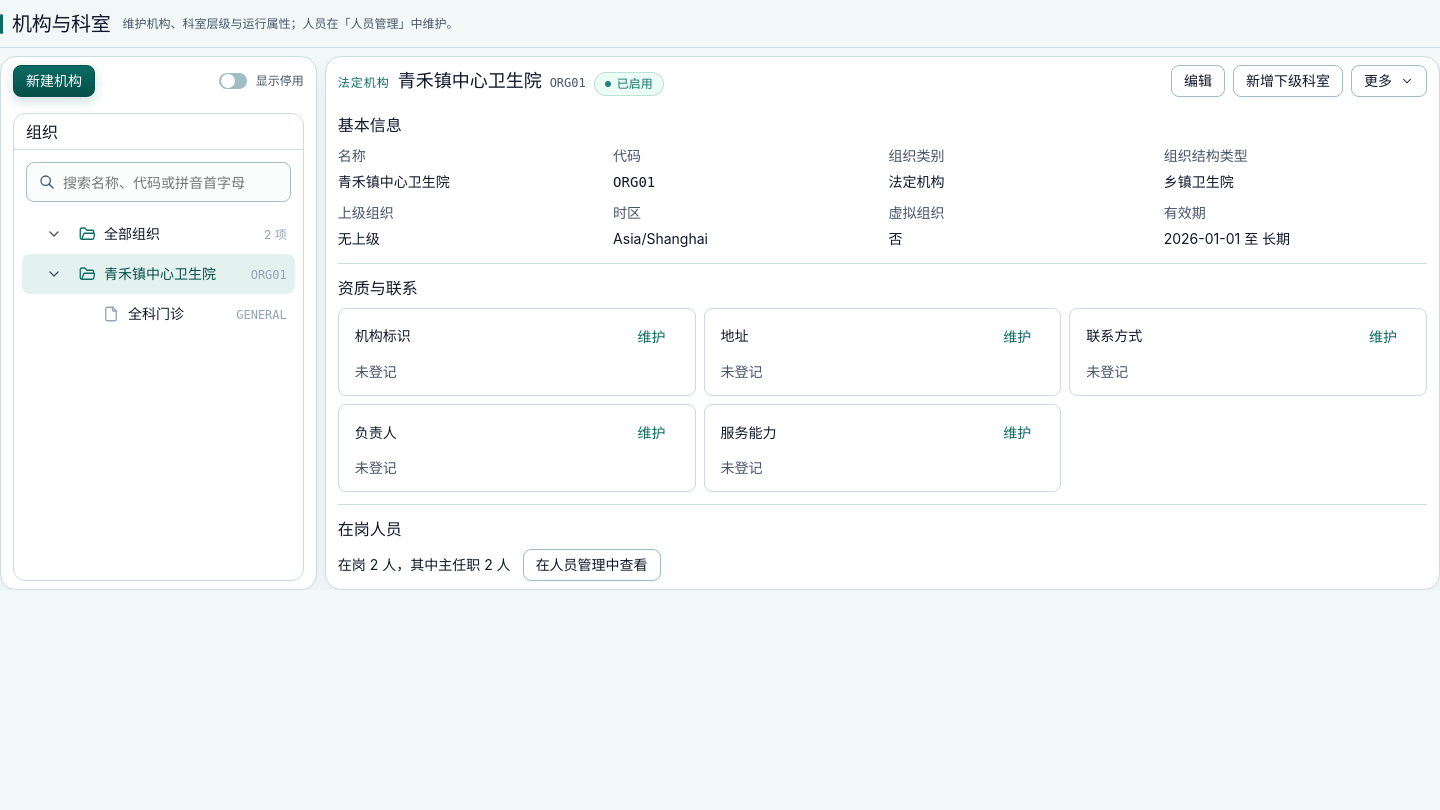
Test: OrganizationsPage › maintains one profile section with defaults and unchanged basic data, never resubmitting relations
Click the button "维护" in the row of "联系方式": (1383, 337) [1356, 321, 1410, 353]
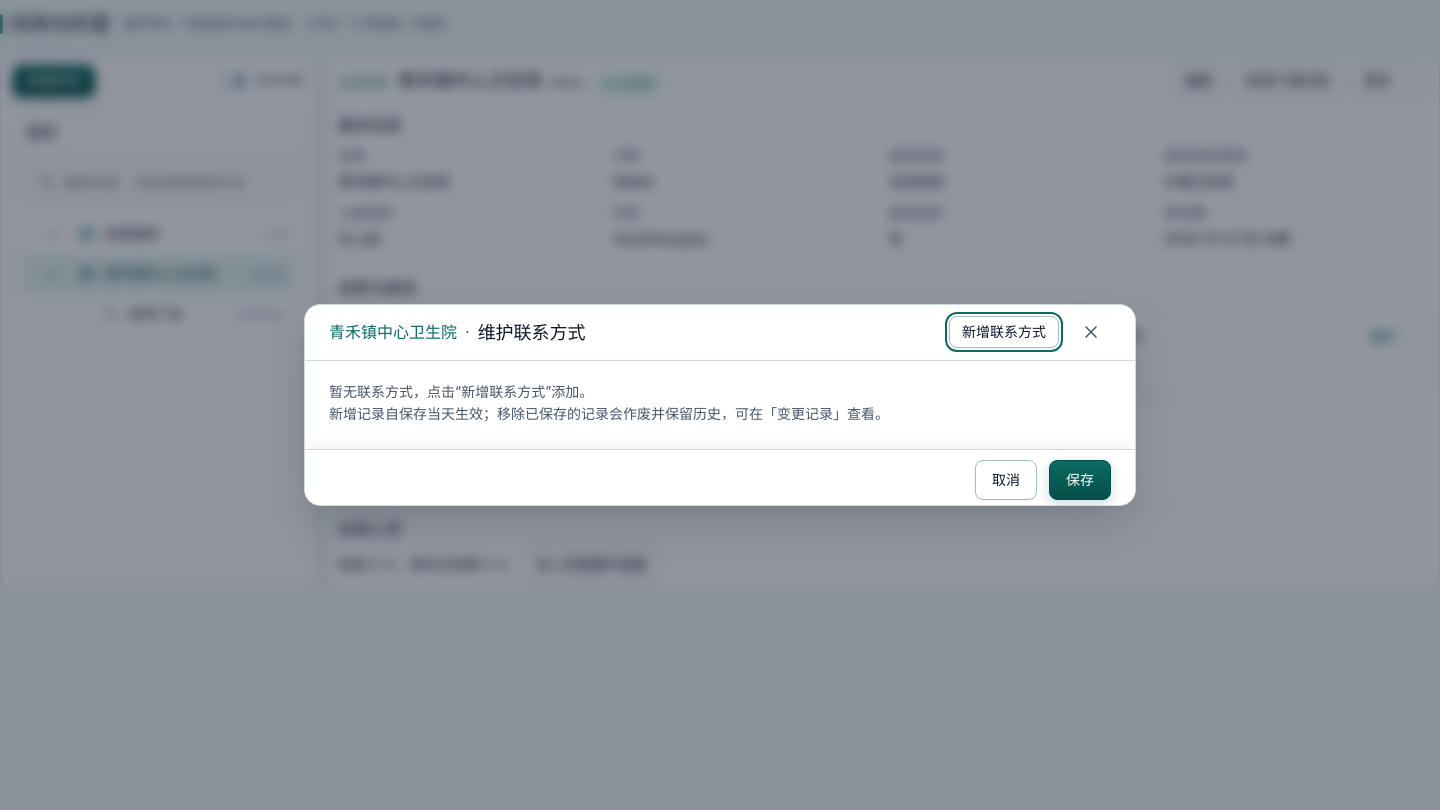
Click the button "新增联系方式": (1004, 332) [949, 316, 1059, 348]
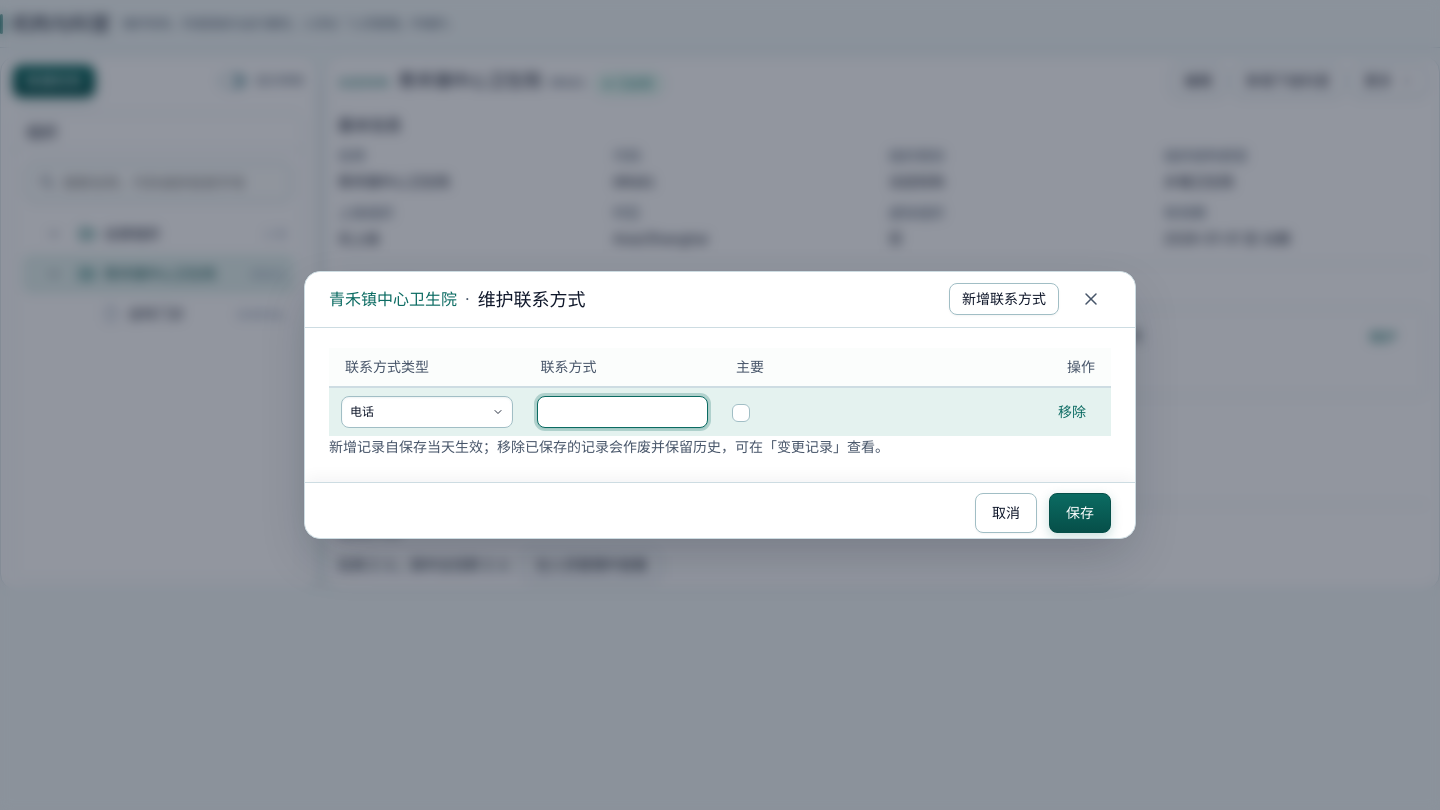
In the field named "联系方式": (622, 412) [536, 396, 708, 428], type "0571-1234567"
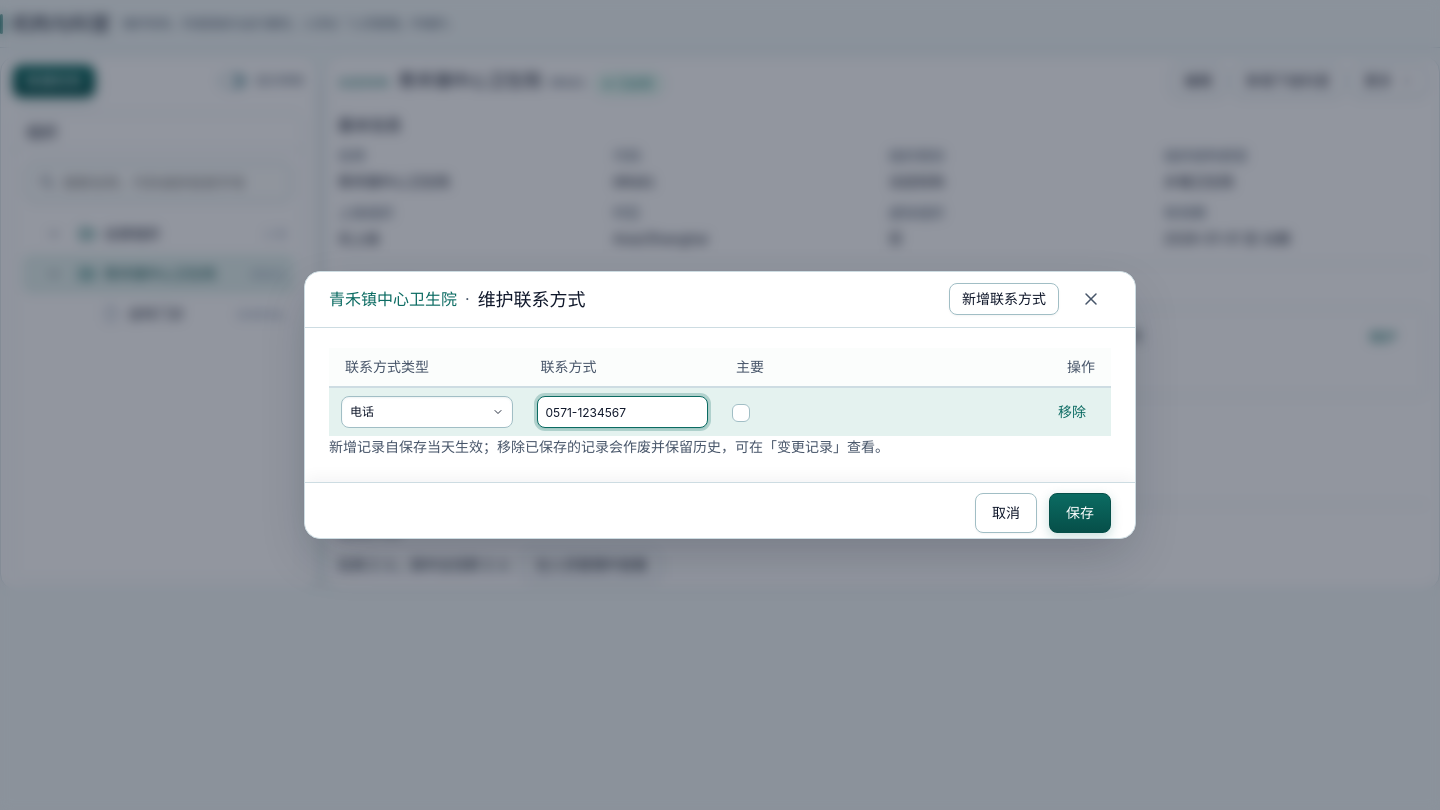
Click the button "保存": (1080, 513) [1049, 493, 1111, 533]
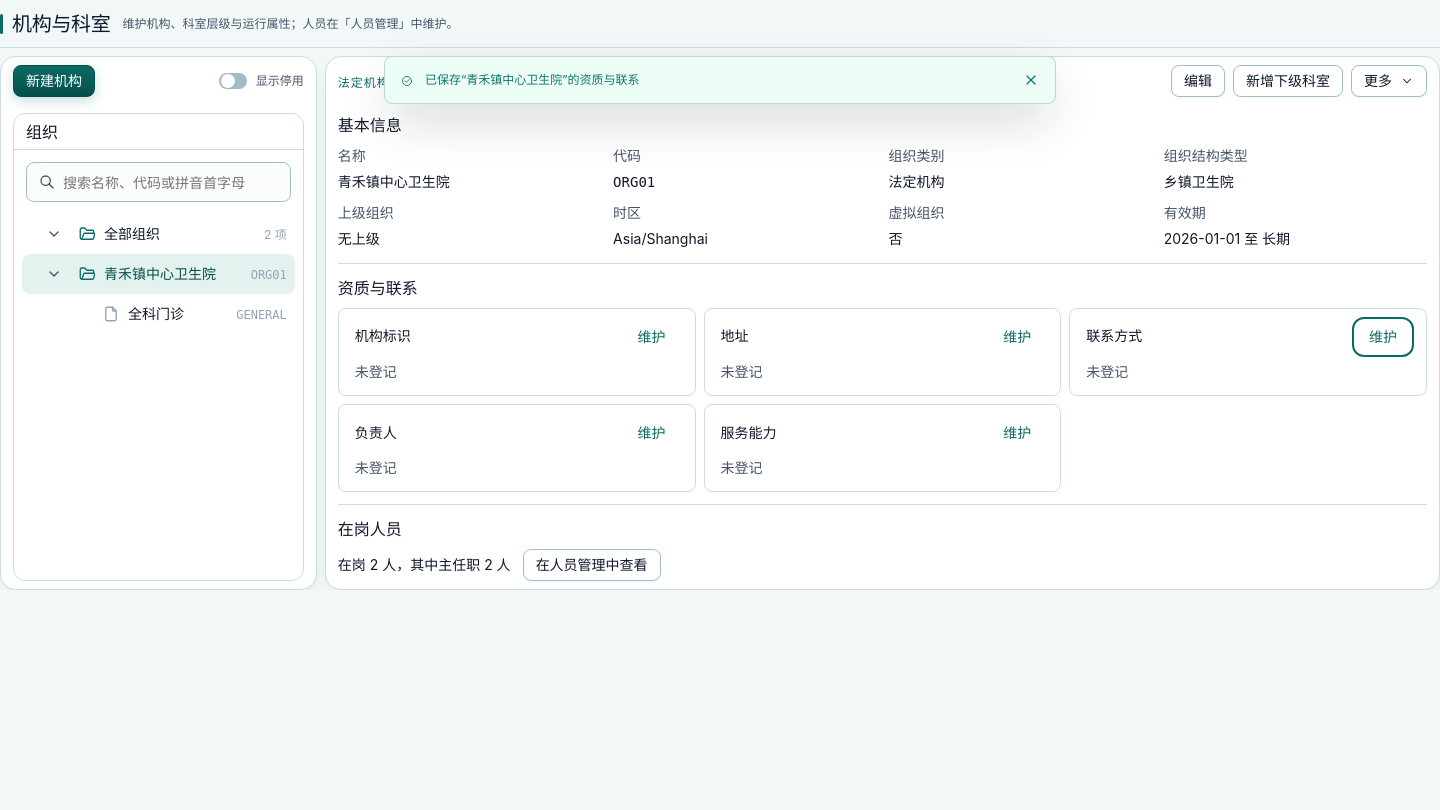
Now the dialog is gone
